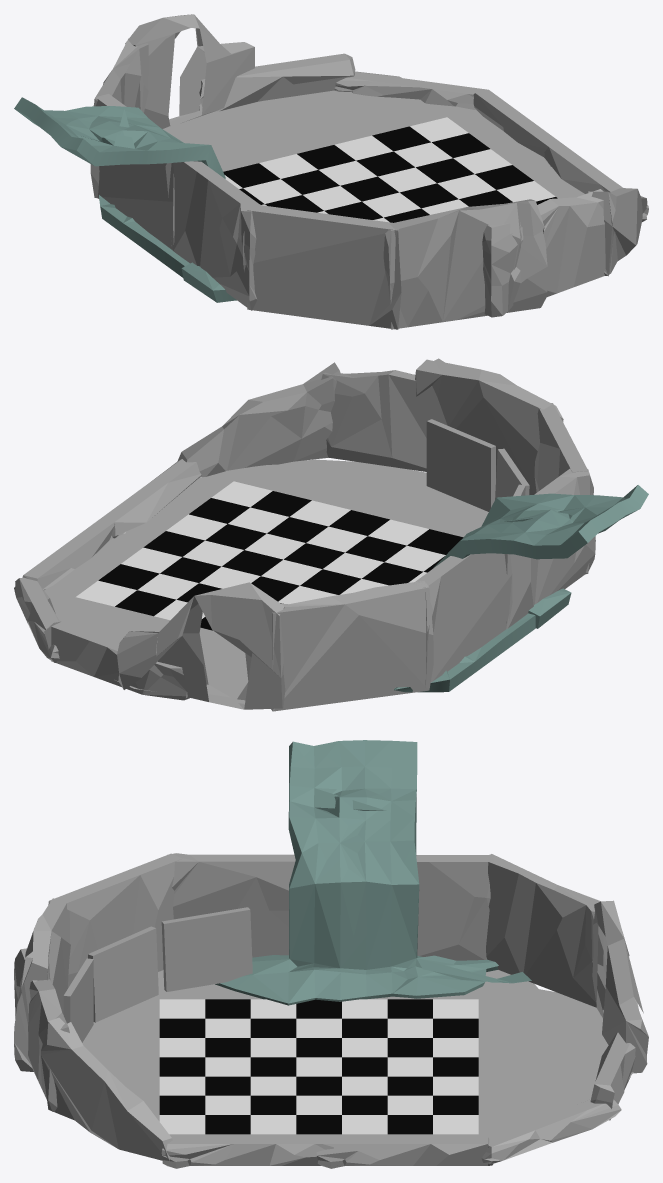
The model's file is Water_Puzzle.fbx.
3 renders of one model, top to bottom at view 1: azimuth 30°, elevation 25°; view 2: azimuth 150°, elevation 25°; view 3: azimuth 270°, elevation 25°, orthographic. The views are drawn at different scales.
Visible parts, largest first — view 1: pPlane3, pPlane1, pCube11, pCube12, pPlane2, pCube1, pCube13, pCube4, pCube2, pCube7, pCube10, pCube14 (+3 smaller); view 2: pPlane3, pPlane1, pCube3, pCube4, pPlane2, pCube14, pCube13, pCube2, pCube12, pCube16, pCube1, pCube7 (+5 smaller); view 3: pPlane3, pPlane2, pPlane1, pCube3, pCube14, pCube1, pCube11, pCube2, pCube17, pCube4, pCube15, pCube18 (+6 smaller).
Boxes of the visible parts, <box> form: pPlane3: <box>223,117,557,222</box>; pPlane1: <box>163,90,584,198</box>; pCube11: <box>243,204,401,329</box>; pCube12: <box>383,199,547,329</box>; pPlane2: <box>14,97,236,302</box>; pCube1: <box>165,161,259,310</box>; pCube13: <box>482,189,617,317</box>; pCube4: <box>125,14,254,128</box>; pCube2: <box>93,94,174,249</box>; pCube7: <box>199,53,355,111</box>; pCube10: <box>334,71,487,109</box>; pCube14: <box>588,188,647,276</box>; pPlane3: <box>76,481,463,630</box>; pPlane1: <box>44,459,488,703</box>; pCube3: <box>271,581,433,711</box>; pCube4: <box>117,582,285,709</box>; pPlane2: <box>394,485,648,692</box>; pCube14: <box>177,362,340,477</box>; pCube13: <box>321,370,447,471</box>; pCube2: <box>413,553,512,687</box>; pCube12: <box>415,358,563,494</box>; pCube16: <box>426,419,495,511</box>; pCube1: <box>504,468,595,628</box>; pCube7: <box>44,621,189,700</box>; pPlane3: <box>159,999,478,1134</box>; pPlane2: <box>215,740,531,1005</box>; pPlane1: <box>63,970,633,1138</box>; pCube3: <box>481,854,607,1009</box>; pCube14: <box>41,1017,172,1160</box>; pCube1: <box>172,853,295,957</box>; pCube11: <box>48,853,181,987</box>; pCube2: <box>416,855,494,960</box>; pCube17: <box>161,907,252,991</box>; pCube4: <box>592,900,648,1073</box>; pCube15: <box>316,1137,493,1168</box>; pCube18: <box>88,926,158,1022</box>.
Bounding box in the file's own units: 38 × 11.56 × 38.48.
